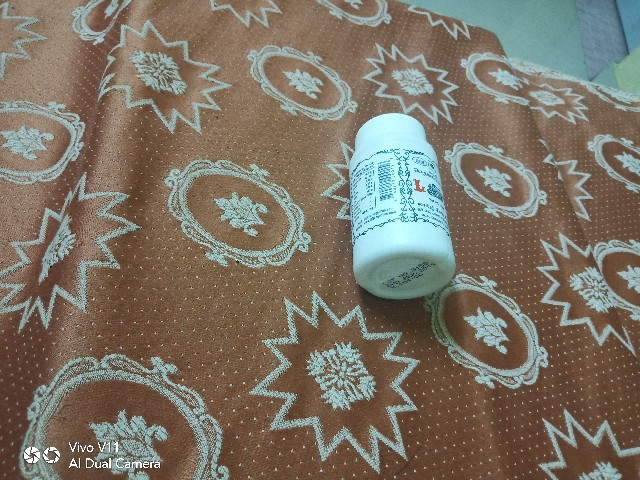lgasafoetidapowder large: (339, 103, 469, 314)
